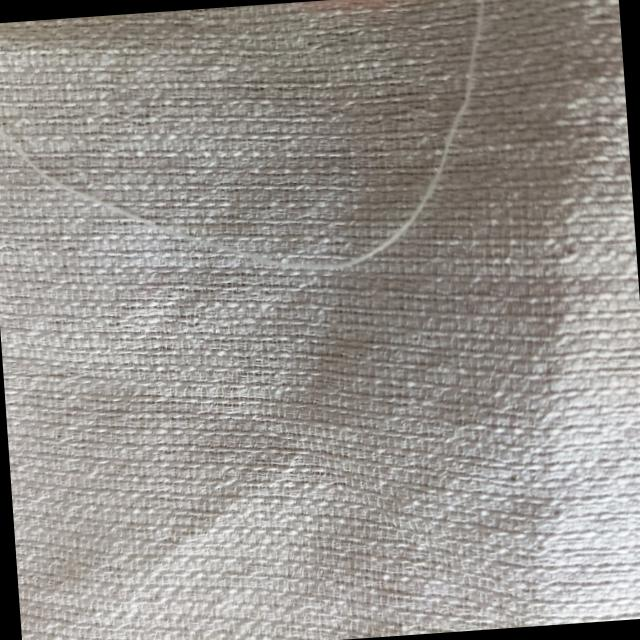Thread: (0, 0, 515, 295)
